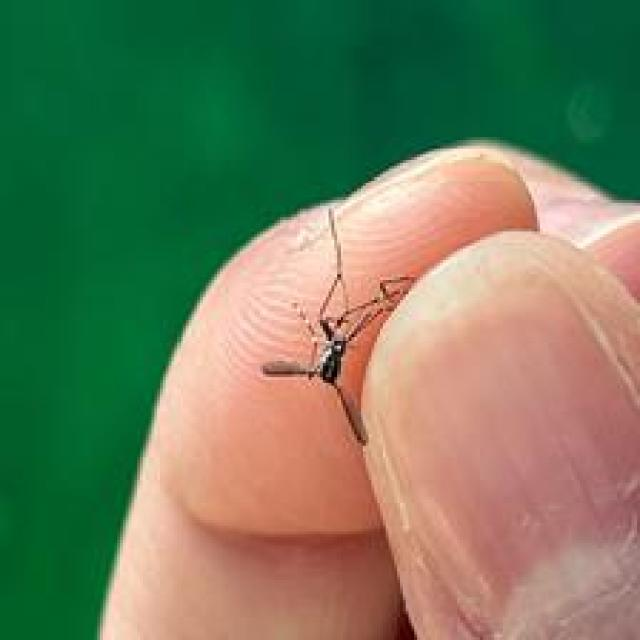Aedes albopictus: (260, 205, 417, 446)
